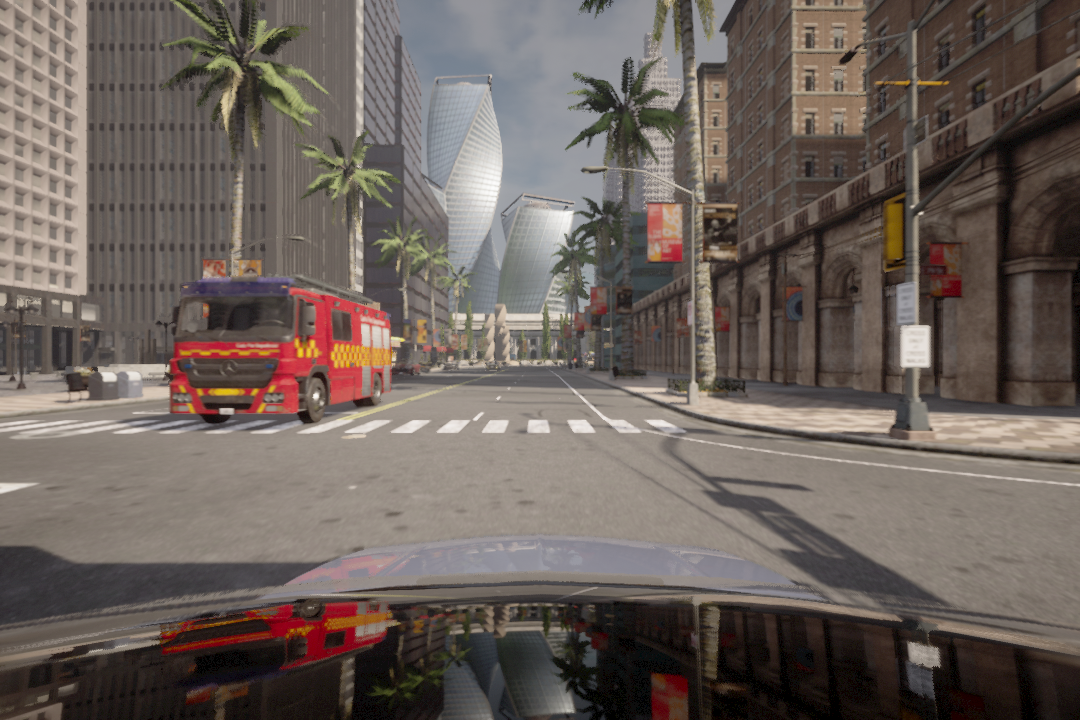walkside: (5, 416, 686, 441)
